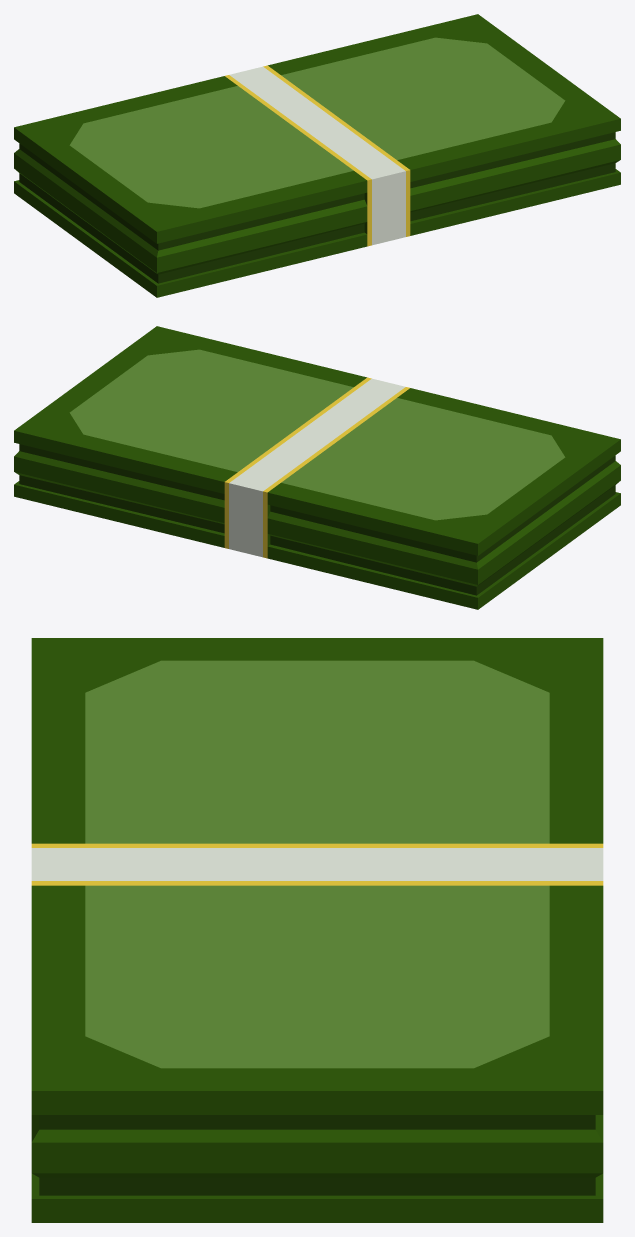
File: MoneyStackV1.fbx
3 views of the same model, one above another, from view 1: azimuth 30°, elevation 25°; view 2: azimuth 150°, elevation 25°; view 3: azimuth 270°, elevation 25° (orthographic). The views are drawn at different scales.
Visible parts, largest first — view 1: MoneyStackV1; view 2: MoneyStackV1; view 3: MoneyStackV1.
Part boxes in pixels (x1,y1,x2,y2): MoneyStackV1: (14,14,620,297); MoneyStackV1: (14,326,620,609); MoneyStackV1: (31,638,603,1222).
Bounding box in the file's own units: 16.96 × 2.3 × 9.05.
